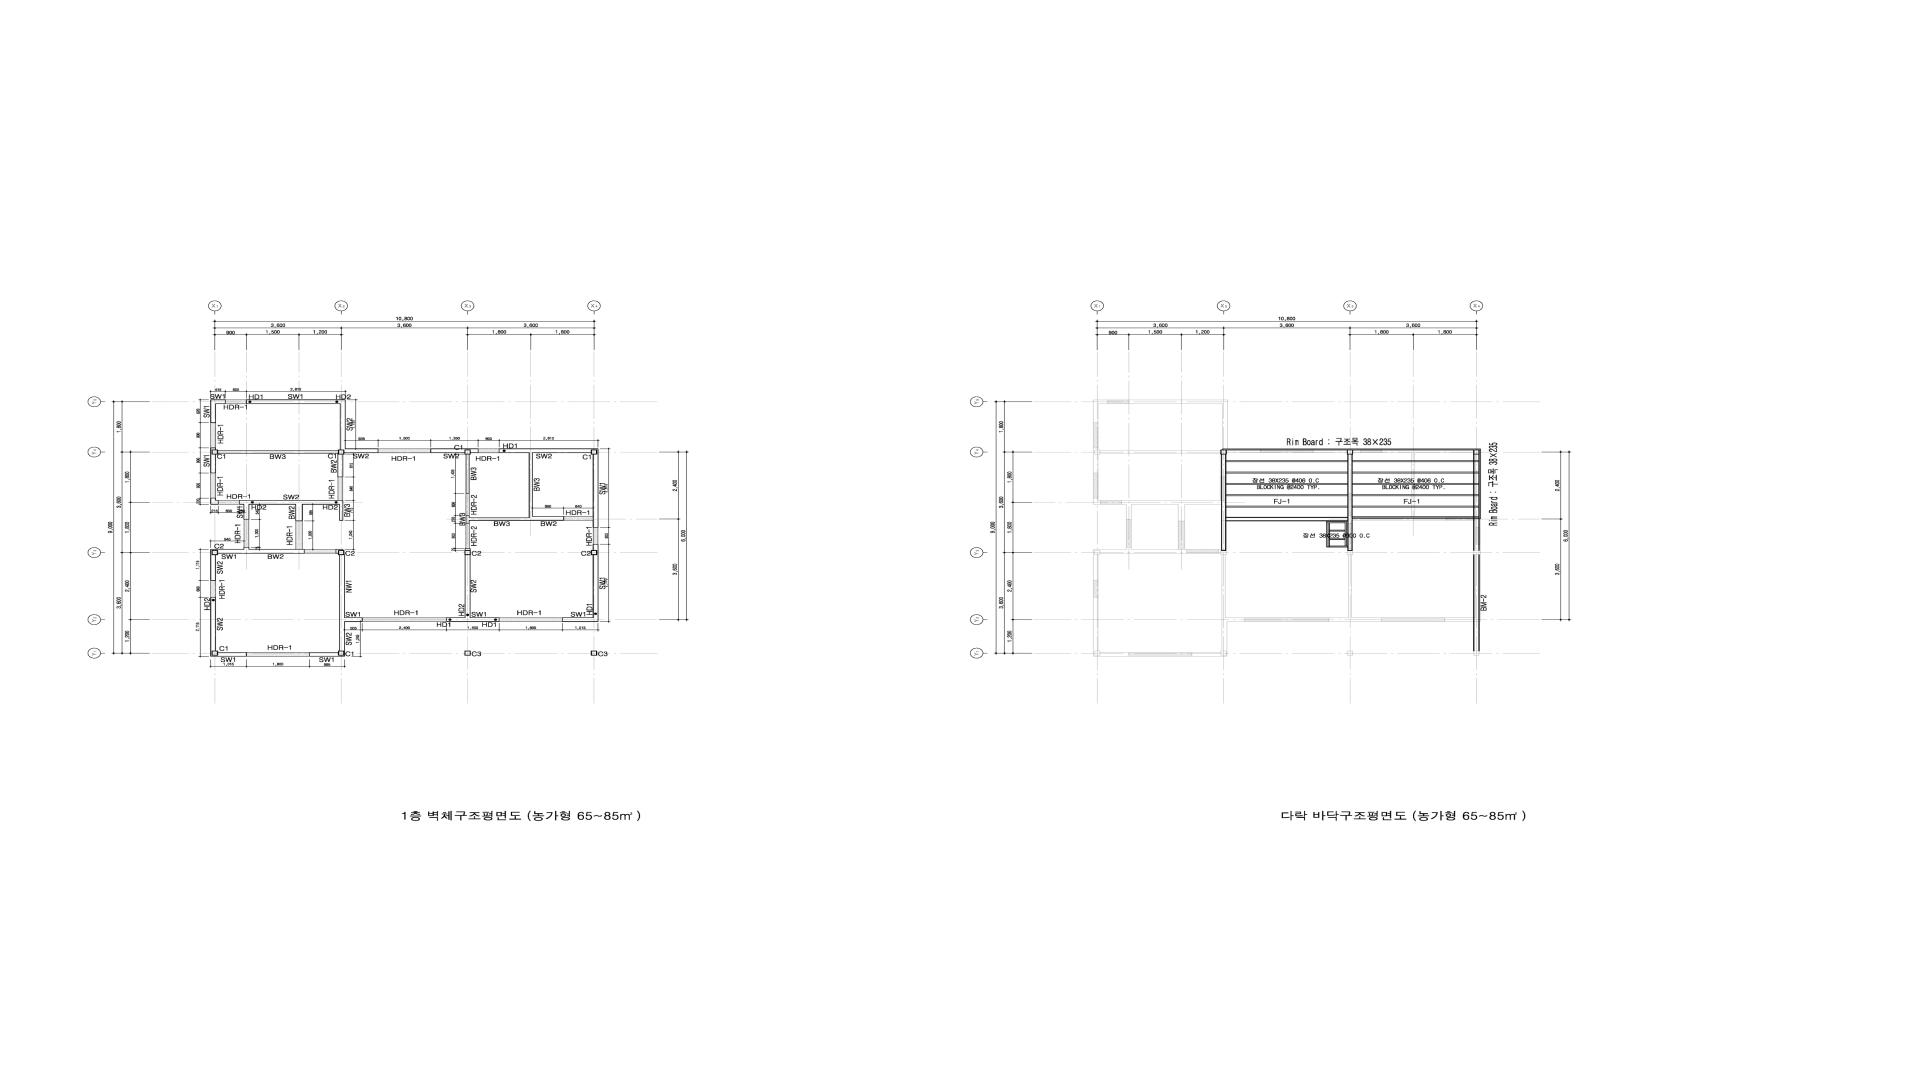door: (295, 521, 303, 549), (305, 549, 336, 554), (564, 516, 592, 521), (338, 477, 343, 500), (465, 524, 469, 549), (465, 493, 469, 516)
wall: (1222, 448, 1481, 451), (1473, 450, 1480, 551), (1473, 555, 1480, 651), (498, 448, 597, 454), (1348, 455, 1353, 551), (1221, 455, 1226, 551), (1226, 517, 1348, 521), (592, 455, 599, 527), (249, 500, 339, 505), (592, 555, 599, 622), (339, 555, 345, 617), (464, 555, 471, 617), (210, 597, 216, 655), (247, 400, 340, 404), (1226, 483, 1348, 485), (1226, 460, 1348, 463), (1353, 505, 1474, 508), (218, 451, 338, 454), (1353, 483, 1473, 485), (1353, 517, 1473, 520), (249, 549, 305, 554), (446, 617, 500, 622), (529, 454, 533, 521), (340, 400, 345, 450), (469, 517, 529, 521), (339, 617, 345, 650), (430, 448, 471, 454), (210, 550, 216, 580), (344, 448, 378, 454), (210, 549, 244, 554), (562, 617, 593, 622), (533, 516, 564, 521), (1226, 506, 1348, 508), (1226, 495, 1348, 496), (1226, 472, 1348, 473), (1353, 460, 1474, 462), (1353, 472, 1473, 473), (1353, 495, 1473, 496), (210, 450, 216, 473), (465, 455, 469, 493), (310, 653, 345, 657), (210, 404, 216, 423), (295, 505, 303, 521), (338, 455, 343, 477), (218, 653, 247, 657), (244, 500, 249, 520), (1327, 524, 1331, 547), (345, 617, 363, 622), (339, 500, 343, 521), (592, 545, 599, 555), (210, 400, 225, 404), (210, 498, 219, 505), (1327, 521, 1345, 524), (338, 650, 345, 655), (471, 448, 479, 454), (335, 549, 343, 554), (1331, 538, 1345, 541), (338, 550, 344, 555), (211, 450, 218, 455), (338, 450, 344, 455), (464, 450, 471, 455), (591, 450, 597, 455), (591, 550, 597, 555), (464, 550, 471, 555), (244, 547, 249, 554), (1346, 450, 1353, 455), (1220, 450, 1226, 455), (1345, 521, 1346, 546), (465, 516, 469, 524), (212, 650, 218, 655), (212, 550, 218, 555), (239, 500, 244, 505), (1331, 546, 1348, 547), (1331, 530, 1345, 531), (210, 447, 216, 450), (210, 655, 218, 657), (597, 448, 599, 455), (464, 549, 471, 550)
window: (363, 617, 447, 622), (500, 617, 562, 622), (378, 448, 430, 454), (247, 653, 310, 657), (210, 473, 216, 498), (210, 423, 216, 447), (244, 520, 249, 547), (210, 580, 216, 597), (592, 527, 599, 545), (479, 448, 498, 454), (219, 500, 239, 505), (225, 400, 247, 404)
